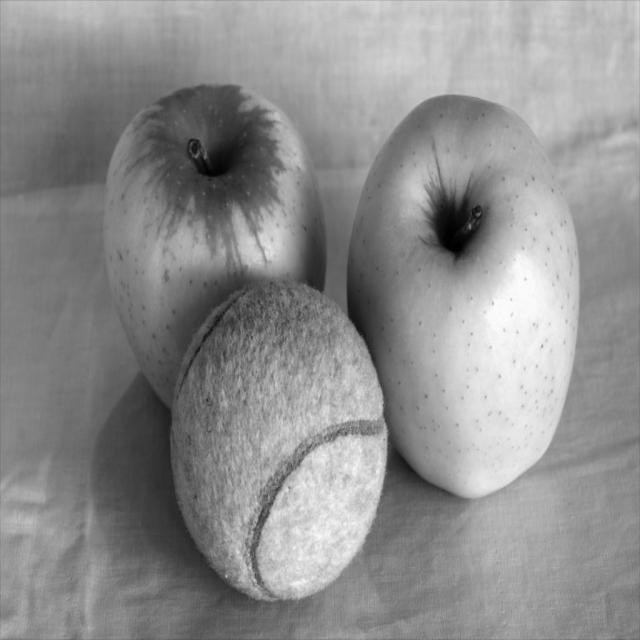Tennis ball: (170, 283, 387, 600)
